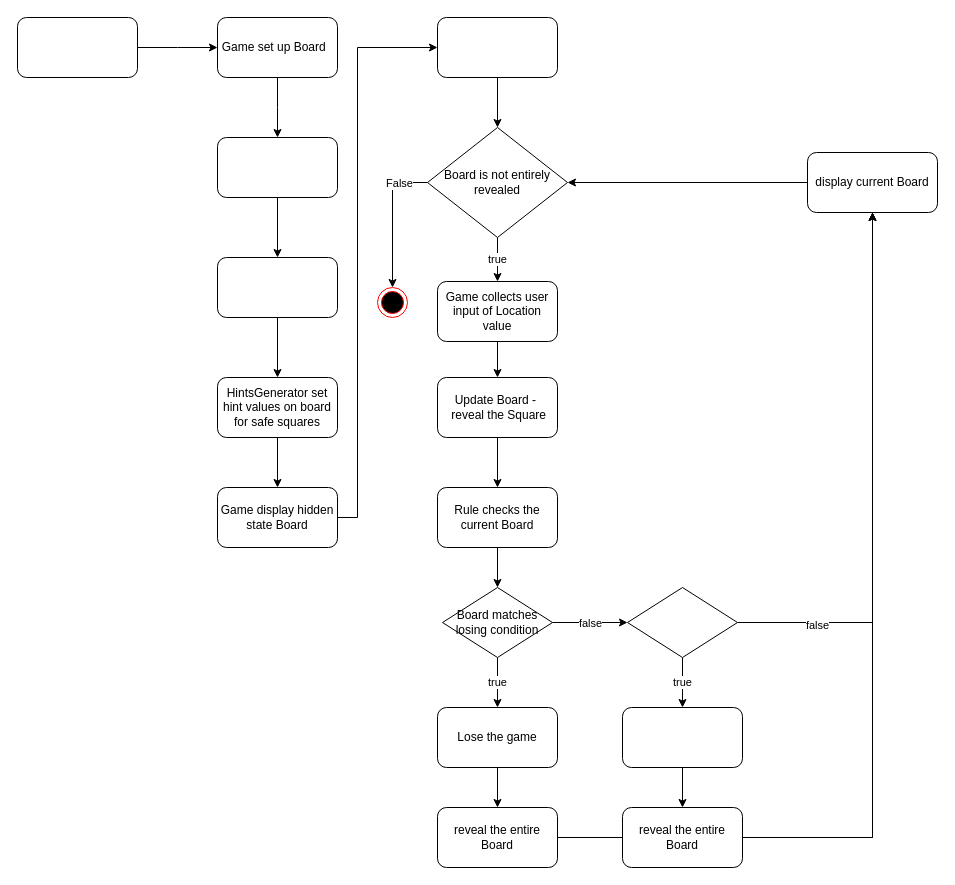
This 955x885 diagram has some shape labels left out. The centre of each missing label's shape, as x and y in pixels:
Board matches winning condition: point 682,622
Game create empty Board based on size: point 277,167
Game Play: point 497,47
MinesGenerator set mines randomly on board: point 277,287
Program gets user input of difficulty value: point 77,47
Win the game: point 682,737
